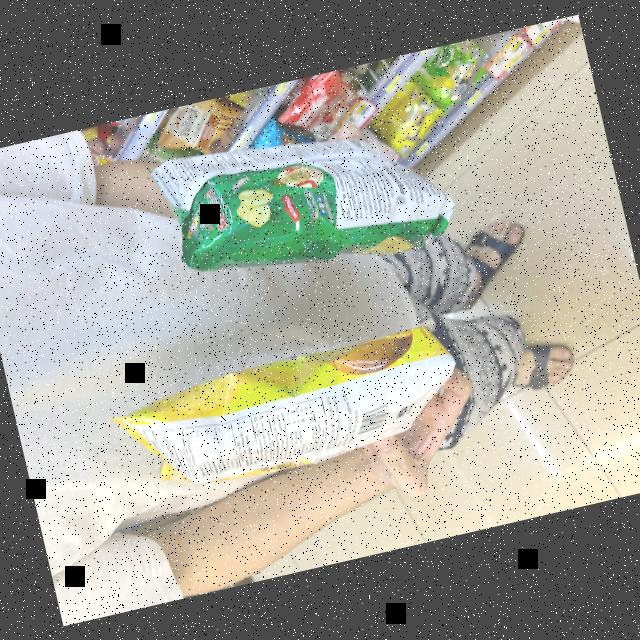snack_bag: (135, 76, 462, 316), (98, 304, 474, 507)
